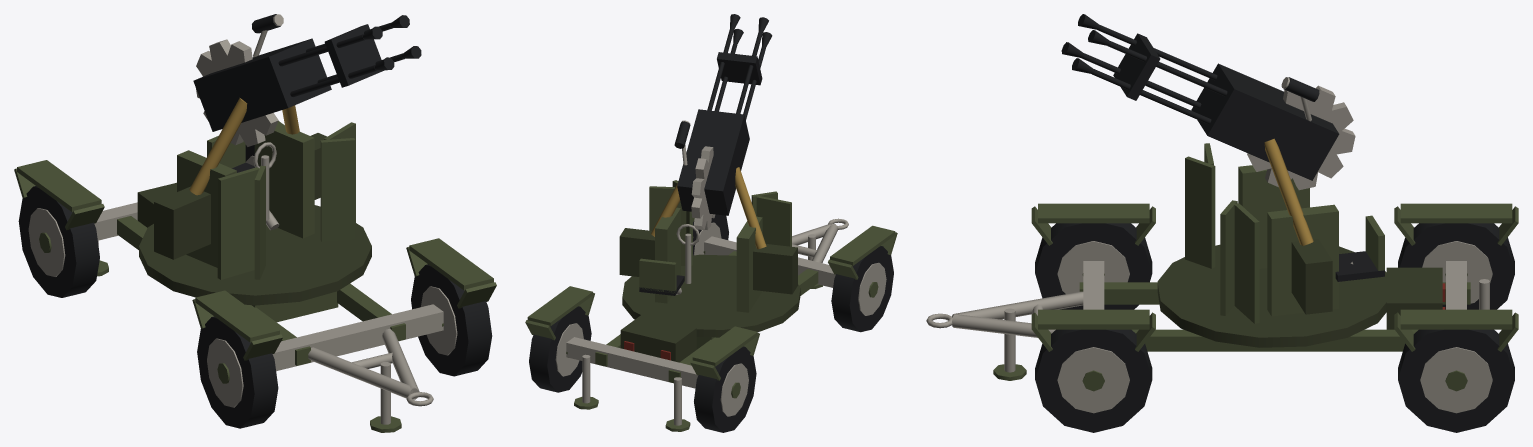
Rendered from zpu-4-quad-anti.glb.
3 views of the same model, side by side, from view 1: azimuth 30°, elevation 25°; view 2: azimuth 150°, elevation 25°; view 3: azimuth 270°, elevation 25° (orthographic). The views are drawn at different scales.
Visible parts, largest first — view 1: Mesh_TurretBasePlate, Mesh_GunBlock, Mesh_StanchionR, Mesh_MasterTire, Mesh_TireRL, Mesh_TireFR, Mesh_AxleF, Mesh_ShieldL, Mesh_ShieldRAngle, Mesh_AmmoBoxL, Mesh_ElevGear, Mesh_StanchionL (+24 smaller); view 2: Mesh_TurretBasePlate, Mesh_GunBlock, Mesh_TireRL, Mesh_MasterTire, Mesh_AxleR, Mesh_TireRR, Mesh_ToolBox, Mesh_AmmoBoxL, Mesh_StanchionL, Mesh_ShieldL, Mesh_AmmoBoxR, Mesh_StanchionR (+21 smaller); view 3: Mesh_TurretBasePlate, Mesh_GunBlock, Mesh_TireRR, Mesh_TireFR, Mesh_StanchionR, Mesh_MasterTire, Mesh_TireRL, Mesh_FrameR, Mesh_RimRR, Mesh_RimFR, Mesh_ShieldLAngle, Mesh_ElevGear (+25 smaller).
Part boxes in pixels (x1=…): Mesh_TurretBasePlate: x1=139, y1=205, x2=371, y2=305; Mesh_GunBlock: x1=193, y1=38, x2=331, y2=131; Mesh_StanchionR: x1=254, y1=122, x2=314, y2=238; Mesh_MasterTire: x1=197, y1=316, x2=278, y2=428; Mesh_TireRL: x1=18, y1=186, x2=99, y2=297; Mesh_TireFR: x1=411, y1=264, x2=492, y2=376; Mesh_AxleF: x1=272, y1=304, x2=443, y2=371; Mesh_ShieldL: x1=217, y1=167, x2=259, y2=279; Mesh_ShieldRAngle: x1=320, y1=138, x2=355, y2=241; Mesh_AmmoBoxL: x1=154, y1=186, x2=210, y2=259; Mesh_ElevGear: x1=196, y1=39, x2=278, y2=146; Mesh_StanchionL: x1=177, y1=150, x2=236, y2=267; Mesh_TurretBasePlate: x1=622, y1=254, x2=800, y2=337; Mesh_GunBlock: x1=677, y1=109, x2=749, y2=215; Mesh_TireRL: x1=694, y1=346, x2=756, y2=432; Mesh_MasterTire: x1=831, y1=246, x2=893, y2=332; Mesh_AxleR: x1=566, y1=337, x2=698, y2=388; Mesh_TireRR: x1=529, y1=306, x2=591, y2=392; Mesh_ToolBox: x1=620, y1=315, x2=696, y2=362; Mesh_AmmoBoxL: x1=753, y1=244, x2=797, y2=294; Mesh_StanchionL: x1=736, y1=216, x2=762, y2=312; Mesh_ShieldL: x1=756, y1=195, x2=791, y2=246; Mesh_AmmoBoxR: x1=619, y1=228, x2=654, y2=276; Mesh_StanchionR: x1=655, y1=207, x2=680, y2=303; Mesh_TurretBasePlate: x1=1157, y1=244, x2=1386, y2=347; Mesh_GunBlock: x1=1191, y1=63, x2=1339, y2=180; Mesh_TireRR: x1=1398, y1=329, x2=1514, y2=432; Mesh_TireFR: x1=1035, y1=329, x2=1152, y2=432; Mesh_StanchionR: x1=1267, y1=204, x2=1338, y2=316; Mesh_MasterTire: x1=1035, y1=223, x2=1152, y2=309; Mesh_TireRL: x1=1398, y1=223, x2=1514, y2=309; Mesh_FrameR: x1=1132, y1=329, x2=1418, y2=351; Mesh_RimRR: x1=1420, y1=347, x2=1492, y2=413; Mesh_RimFR: x1=1057, y1=347, x2=1129, y2=413; Mesh_ShieldLAngle: x1=1185, y1=156, x2=1215, y2=268; Mesh_ElevGear: x1=1247, y1=85, x2=1355, y2=190.
Bounding box in the file's own units: 2.05 × 2.95 × 4.25.
Materials: 1 (1 with a texture image).
